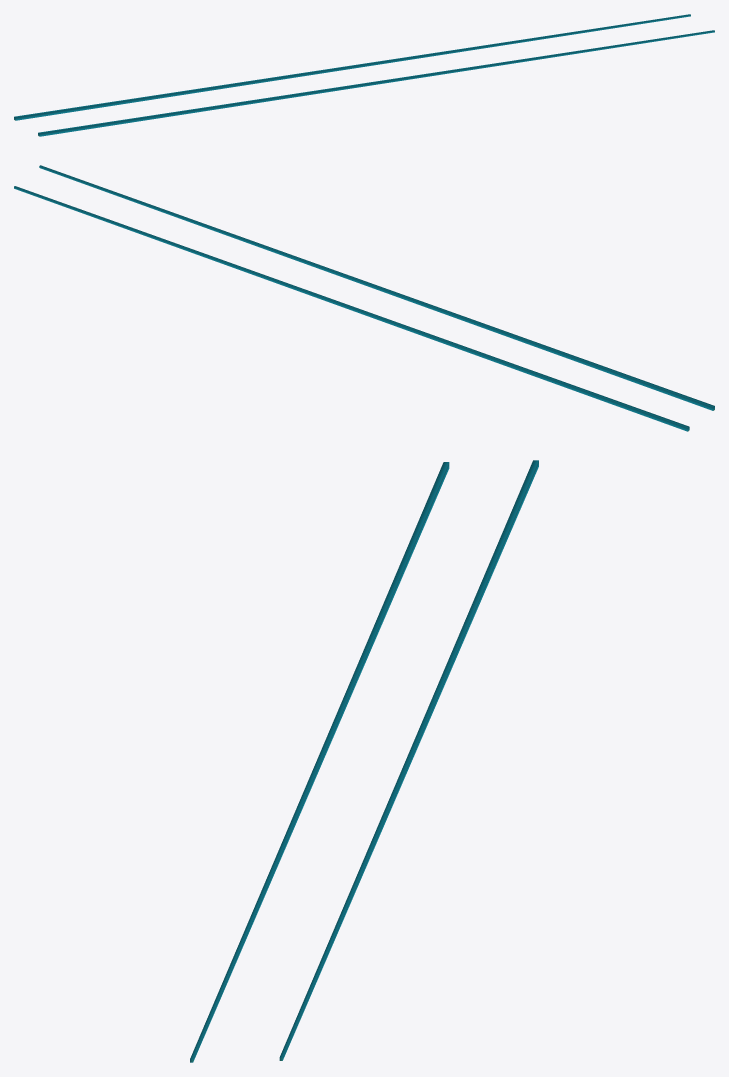
The model's file is Cables01.glb.
3 renders of one model, top to bottom at view 1: azimuth 30°, elevation 25°; view 2: azimuth 150°, elevation 25°; view 3: azimuth 270°, elevation 25°, orthographic. The views are drawn at different scales.
Parts seen in each view (by area): view 1: Cables01; view 2: Cables01; view 3: Cables01.
Part boxes in pixels (left/top/right/bottom): Cables01: left=14, top=14, right=714, bottom=136; Cables01: left=14, top=165, right=714, bottom=431; Cables01: left=190, top=460, right=538, bottom=1062.
Size of the model in its own units: 9728 by 48.1 by 2396.
1 material, 1 textured.
